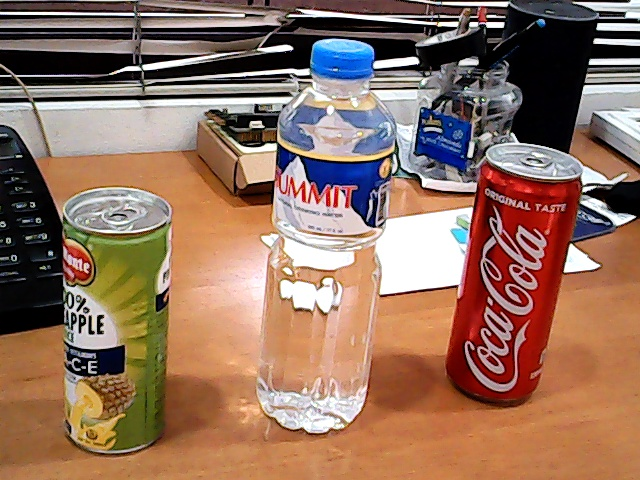Cola: (426, 109, 598, 435)
Pine Juice: (40, 177, 187, 469)
Summit Water: (243, 23, 408, 457)
